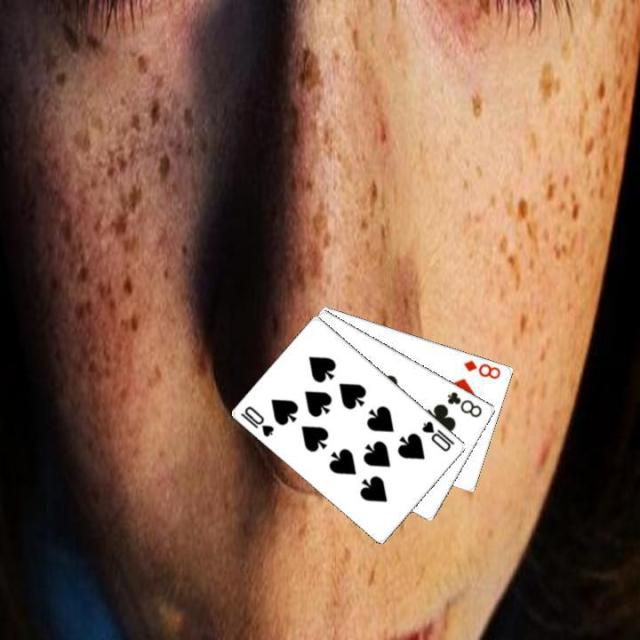10S: (238, 402, 276, 439), (418, 417, 457, 453)
8C: (444, 388, 484, 420)
8D: (460, 356, 503, 382)
